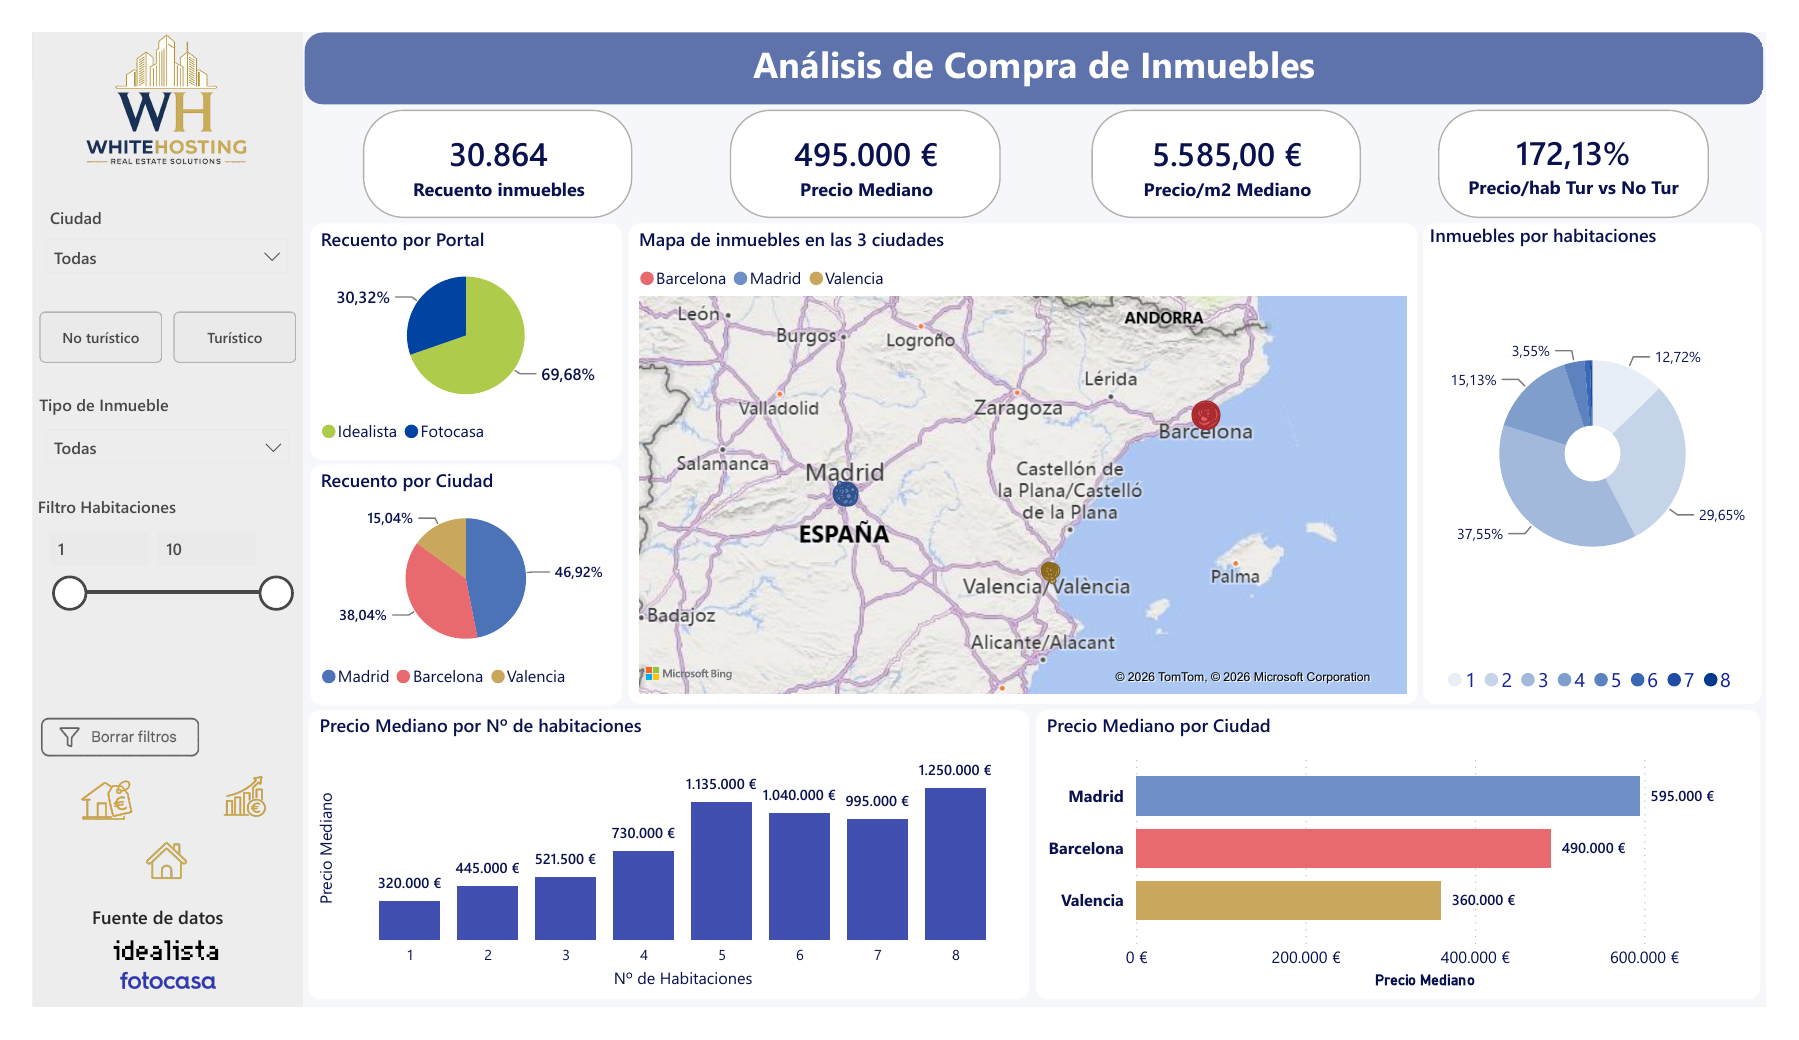

What the dashboard file says about the page in this screenshot:
{"tool":"powerbi","page":{"name":"Compra","canvas":[1280,720],"ordinal":1},"visuals":[{"type":"shape","box":[200.8,0,1077.4,52.7],"z":0},{"type":"shape","box":[0,0,200.5,719.7],"z":1000},{"type":"textbox","box":[39.1,640.5,114.5,29.1],"z":2000},{"type":"image","box":[40.5,667,116.8,21.5],"z":3000},{"type":"image","box":[32.6,680.7,132.5,38.5],"z":4000},{"type":"slicer","title":"Filtro Habitaciones","fields":{"Values":["datos_compra_inmuebles_listo.habitaciones"]},"box":[0,341.1,199.8,89.8],"z":5000},{"type":"slicer","title":"Tipo de Inmueble","fields":{"Values":["datos_compra_inmuebles_listo.tipo_inmueble"]},"box":[0,266.6,199.8,61.9],"z":6000},{"type":"pieChart","title":"Recuento por Ciudad","fields":{"Y":["Count(datos_compra_inmuebles_listo.id_anuncio)"],"Category":["tabla_barrios_oficial_turísticos_id_mejorado.ciudad"]},"box":[203.9,317.8,232.6,179.9],"z":7000},{"type":"donutChart","title":"Inmuebles por habitaciones","fields":{"Category":["datos_compra_inmuebles_listo.habitaciones"],"Y":["datos_compra_inmuebles_listo.Recuento inmuebles"]},"box":[1025.7,139.5,252.5,357.9],"z":8000},{"type":"clusteredColumnChart","title":"Precio Mediano por Nº de habitaciones","fields":{"Category":["datos_compra_inmuebles_listo.habitaciones"],"Y":["datos_compra_inmuebles_listo.Precio Mediano"]},"box":[202.6,499.4,534,216],"z":9000},{"type":"pieChart","title":"Recuento por Portal","fields":{"Y":["CountNonNull(datos_compra_inmuebles_listo.id_anuncio)"],"Category":["datos_compra_inmuebles_listo.base_datos"]},"box":[203.9,139.9,232.3,177.1],"z":10000},{"type":"clusteredBarChart","title":"Precio Mediano por Ciudad","fields":{"Category":["tabla_barrios_oficial_turísticos_id_mejorado.ciudad"],"Y":["datos_compra_inmuebles_listo.Precio Mediano"]},"box":[740.3,499.4,536.6,216],"z":11000},{"type":"cardVisual","title":"Recuento ","fields":{"Data":["datos_compra_inmuebles_listo.Recuento inmuebles"]},"box":[238.8,51.7,208.9,89.9],"z":12000},{"type":"map","title":"Mapa de inmuebles en las 3 ciudades","fields":{"Y":["tabla_barrios_con_coordenadas.Latitud"],"X":["tabla_barrios_con_coordenadas.Longitud"],"Size":["datos_compra_inmuebles_listo.Recuento inmuebles"],"Series":["tabla_barrios_oficial_turísticos_id_mejorado.ciudad"]},"box":[438.7,139.9,584.9,357.6],"z":13000},{"type":"cardVisual","title":"Recuento ","fields":{"Data":["datos_compra_inmuebles_listo.Precio Mediano"]},"box":[509.6,51.7,210.8,89.9],"z":14000},{"type":"cardVisual","title":"Recuento ","fields":{"Data":["datos_compra_inmuebles_listo.Precio/m2 Mediano"]},"box":[776.6,51.7,209.9,89.9],"z":15000},{"type":"cardVisual","title":"Recuento ","fields":{"Data":["datos_compra_inmuebles_listo.Precio/hab Tur vs No Tur"]},"box":[1032.8,51.7,209.9,89.9],"z":16000},{"type":"image","box":[15.4,0,167.2,99.9],"z":17000},{"type":"slicer","fields":{"Values":["tabla_barrios_oficial_turísticos_id_mejorado.Ciudad"]},"box":[0,123.5,198.9,58.1],"z":18000},{"type":"image","box":[6.2,533.7,93.5,67.8],"z":19000},{"type":"image","box":[116.3,533.7,81,63],"z":20000},{"type":"advancedSlicerVisual","fields":{"Values":["tabla_barrios_oficial_turísticos_id_mejorado.Barrio Turístico (texto)"]},"box":[0,201.2,199.8,48],"z":21000},{"type":"textbox","box":[199.9,0,1080.1,52.7],"z":22000},{"type":"image","box":[50.9,566,96.3,95.4],"z":23000},{"type":"image","box":[6.3,494.7,117,51.2],"z":24000}]}

Visuals, with their boxes in screenshot pixels (x1, y1, x2, y2), scaled from the page's 1280x720 canvas onto the 1799x1040 screenshot:
shape: left=282, top=0, right=1796, bottom=76
shape: left=0, top=0, right=282, bottom=1039
textbox: left=55, top=925, right=216, bottom=967
image: left=57, top=963, right=221, bottom=994
image: left=46, top=983, right=232, bottom=1039
"Filtro Habitaciones" slicer: left=0, top=493, right=281, bottom=622
"Tipo de Inmueble" slicer: left=0, top=385, right=281, bottom=474
"Recuento por Ciudad" pieChart: left=287, top=459, right=613, bottom=719
"Inmuebles por habitaciones" donutChart: left=1442, top=202, right=1796, bottom=718
"Precio Mediano por Nº de habitaciones" clusteredColumnChart: left=285, top=721, right=1035, bottom=1033
"Recuento por Portal" pieChart: left=287, top=202, right=613, bottom=458
"Precio Mediano por Ciudad" clusteredBarChart: left=1040, top=721, right=1795, bottom=1033
"Recuento " cardVisual: left=336, top=75, right=629, bottom=205
"Mapa de inmuebles en las 3 ciudades" map: left=617, top=202, right=1439, bottom=719
"Recuento " cardVisual: left=716, top=75, right=1012, bottom=205
"Recuento " cardVisual: left=1091, top=75, right=1386, bottom=205
"Recuento " cardVisual: left=1452, top=75, right=1747, bottom=205
image: left=22, top=0, right=257, bottom=144
slicer - tabla_barrios_oficial_turísticos_id_mejorado.Ciudad: left=0, top=178, right=280, bottom=262
image: left=9, top=771, right=140, bottom=869
image: left=163, top=771, right=277, bottom=862
advancedSlicerVisual - tabla_barrios_oficial_turísticos_id_mejorado.Barrio Turístico (texto): left=0, top=291, right=281, bottom=360
textbox: left=281, top=0, right=1798, bottom=76
image: left=72, top=818, right=207, bottom=955
image: left=9, top=715, right=173, bottom=789
